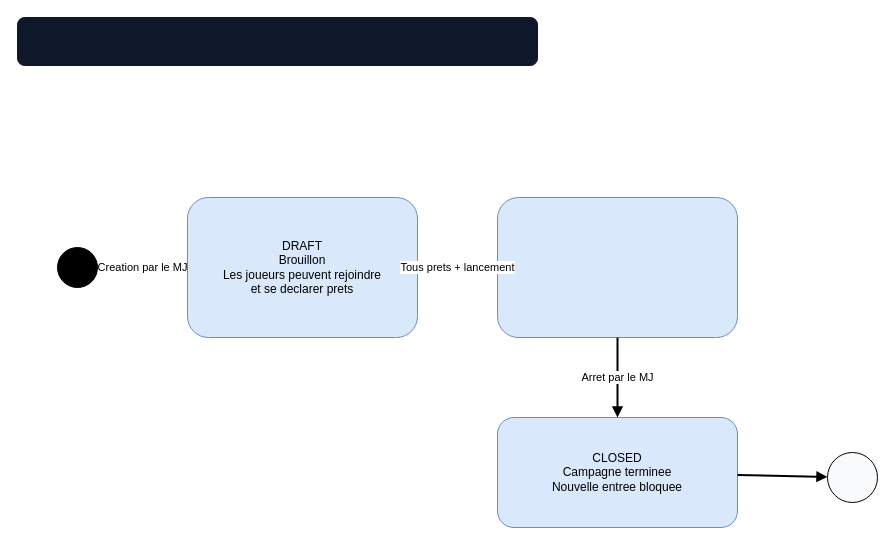
This 895x545 diagram has some shape labels left out. Here are the shapes that lost their labels. From the top down, the centre of each, then its label:
At pixel 277 41: "Etats - campagne".
At pixel 617 267: "ACTIVE Campagne active Scene, jets, inventaire et echanges utilisables".
